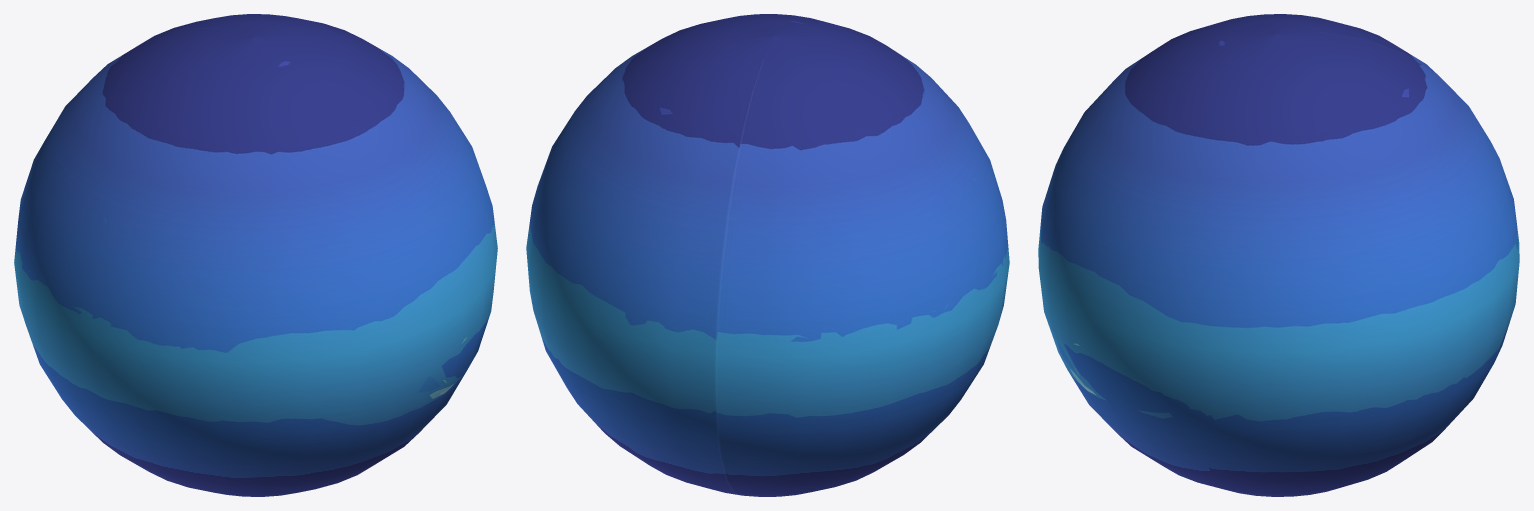
The model's file is neptune.glb.
3 renders of one model, left to right at view 1: azimuth 30°, elevation 25°; view 2: azimuth 150°, elevation 25°; view 3: azimuth 270°, elevation 25°, orthographic.
Visible parts, largest first — view 1: Neptune; view 2: Neptune; view 3: Neptune.
Part boxes in pixels (<box>): Neptune: <box>14,14,497,496</box>; Neptune: <box>526,14,1009,496</box>; Neptune: <box>1038,14,1519,496</box>.
Size of the model in its own units: 1.08 by 1.08 by 1.08.
1 material, 1 textured.
